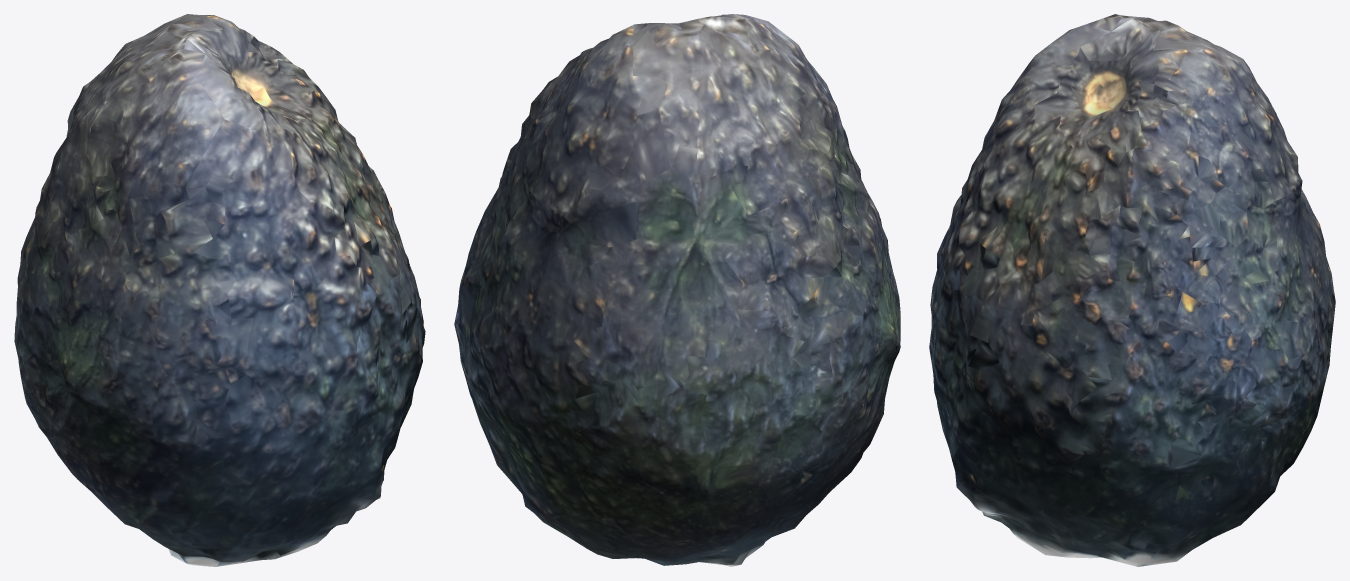
The model's file is avocado.obj.
3 renders of one model, left to right at view 1: azimuth 30°, elevation 25°; view 2: azimuth 150°, elevation 25°; view 3: azimuth 270°, elevation 25°, orthographic. The views are drawn at different scales.
Visible parts, largest first — view 1: avocado; view 2: avocado; view 3: avocado.
Part boxes in pixels (<box>): avocado: <box>14,14,425,566</box>; avocado: <box>454,14,900,566</box>; avocado: <box>929,14,1335,566</box>.
Size of the model in its own units: 0.9713 by 1.35 by 0.955.
